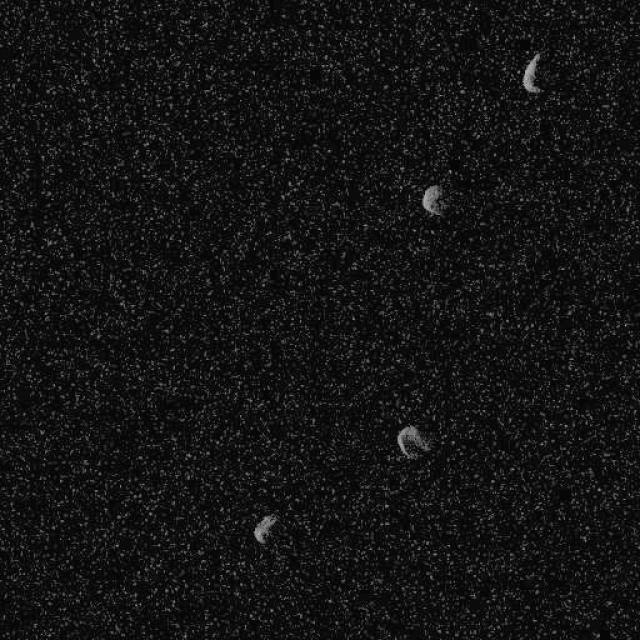D2: (395, 424, 431, 460), (520, 51, 542, 94), (252, 513, 278, 545), (422, 184, 446, 218)
